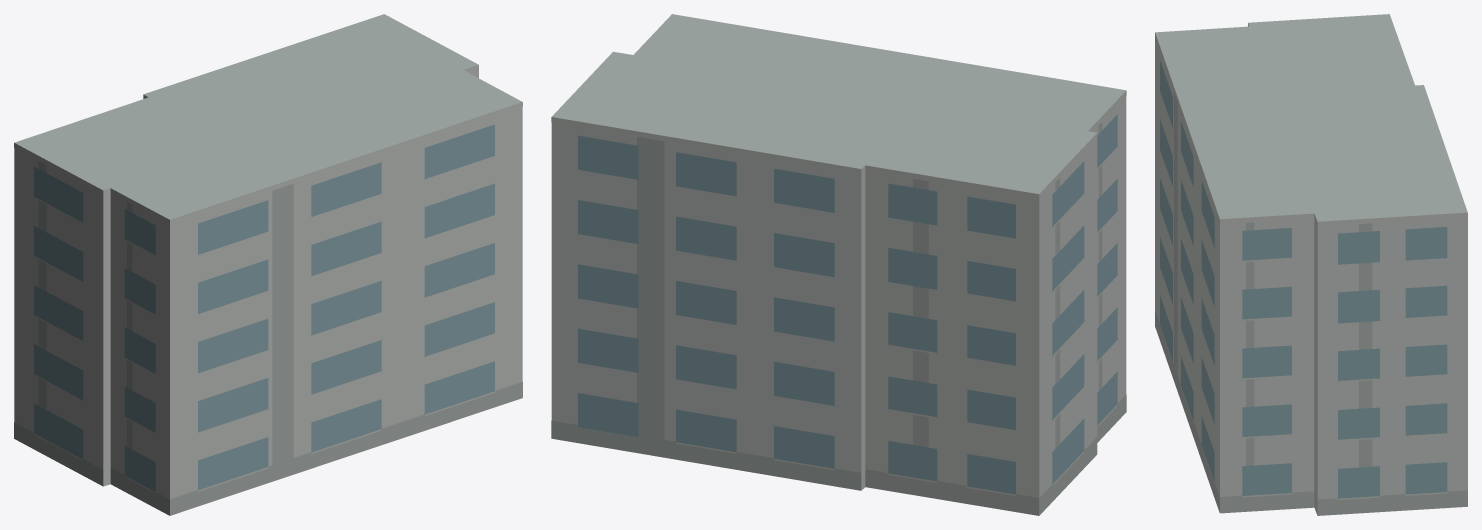
File: survey-upis-32940606.glb
3 views of the same model, side by side, from view 1: azimuth 30°, elevation 25°; view 2: azimuth 150°, elevation 25°; view 3: azimuth 270°, elevation 25° (orthographic). The views are drawn at different scales.
Parts seen in each view (by area): view 1: survey-upis-32940606.tmp; view 2: survey-upis-32940606.tmp; view 3: survey-upis-32940606.tmp.
Boxes of the visible parts, box(x1,y1,x2,y2) form: survey-upis-32940606.tmp: box(14, 14, 522, 515); survey-upis-32940606.tmp: box(551, 14, 1126, 515); survey-upis-32940606.tmp: box(1155, 14, 1467, 515).
Bounding box in the file's own units: 21.82 × 14.4 × 13.88.
